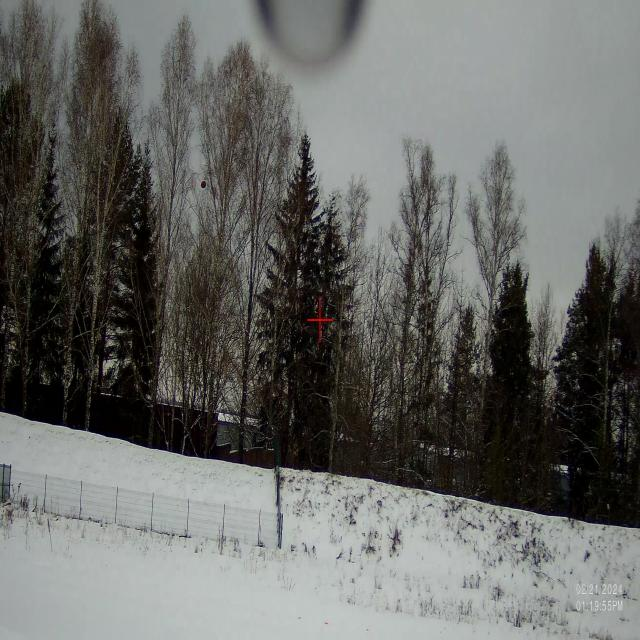entire: (196, 170, 213, 196)
